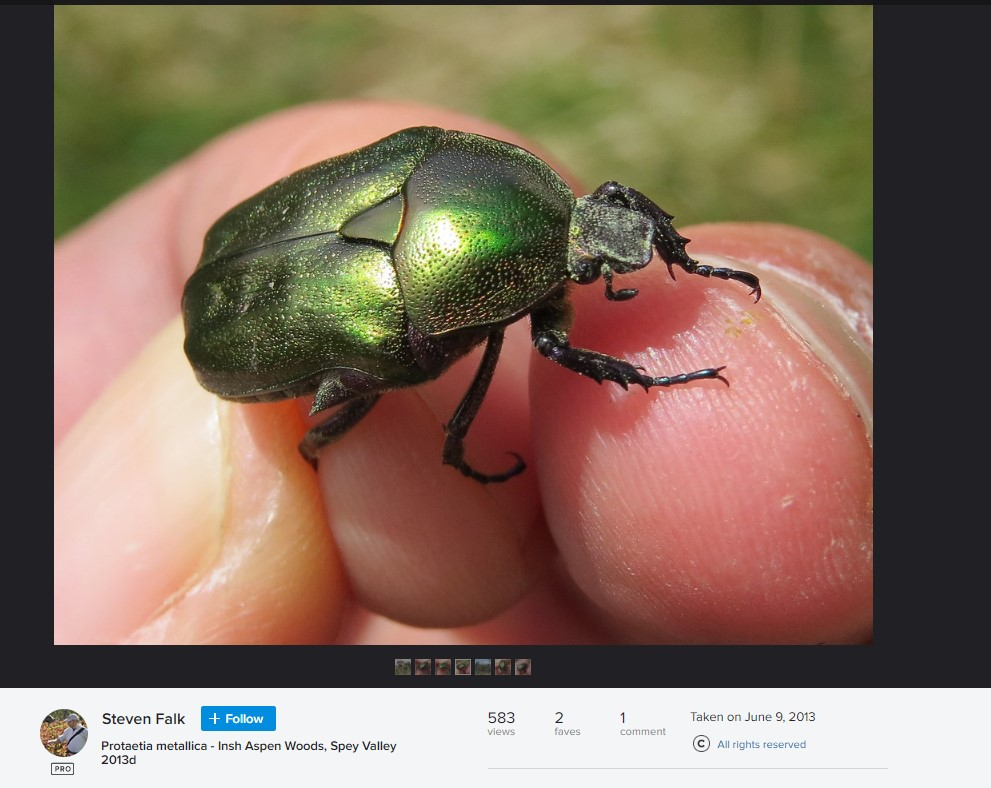Protaetia_metallica: (179, 121, 767, 492)
